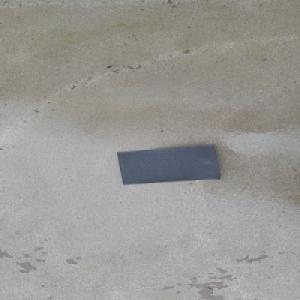PaintChip: (116, 144, 221, 184)
